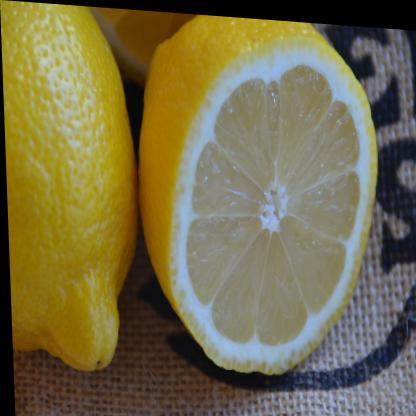lemon: (139, 14, 378, 376), (2, 0, 137, 371)
